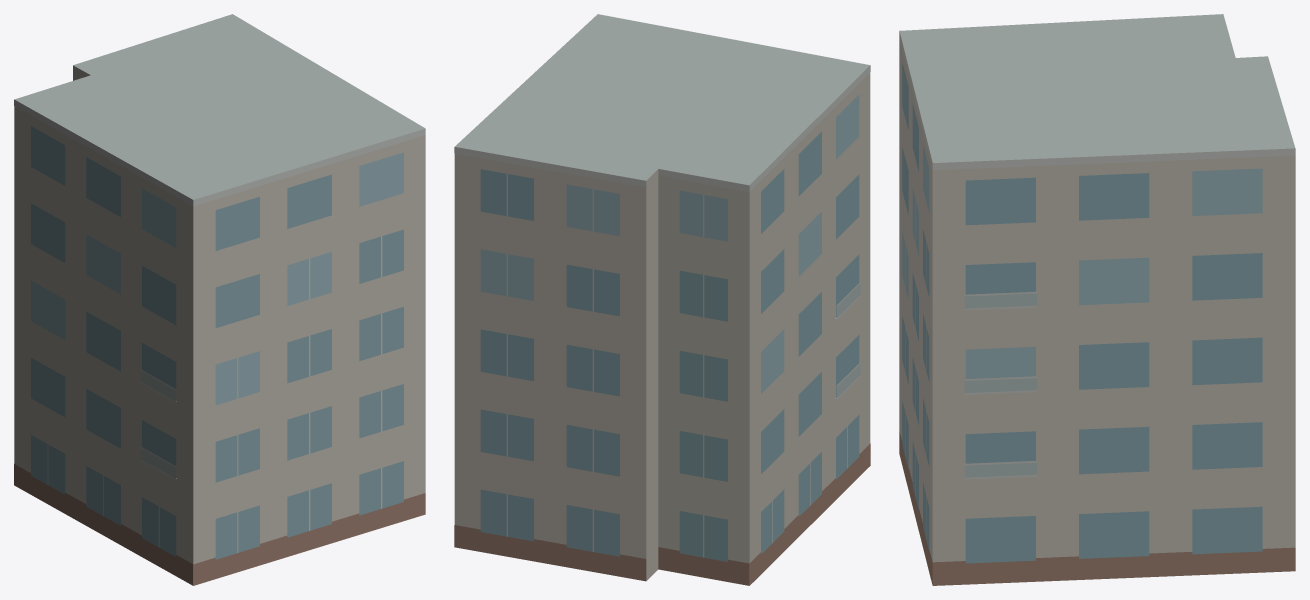
Rendered from survey-upis-32713842.glb.
3 views of the same model, side by side, from view 1: azimuth 30°, elevation 25°; view 2: azimuth 150°, elevation 25°; view 3: azimuth 270°, elevation 25° (orthographic). The views are drawn at different scales.
Visible parts, largest first — view 1: survey-upis-32713842.tmp; view 2: survey-upis-32713842.tmp; view 3: survey-upis-32713842.tmp.
Part boxes in pixels (x1,y1,x2,y2): survey-upis-32713842.tmp: (14, 14, 425, 585); survey-upis-32713842.tmp: (454, 14, 870, 585); survey-upis-32713842.tmp: (899, 14, 1295, 585).
Bounding box in the file's own units: 10.97 × 14.5 × 12.32.
